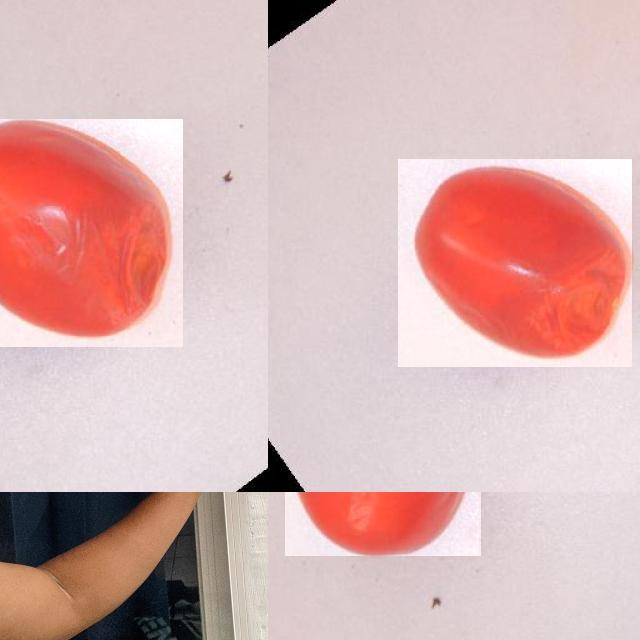Rotten Tomato: (398, 159, 632, 367), (0, 119, 182, 347), (285, 492, 481, 556)
